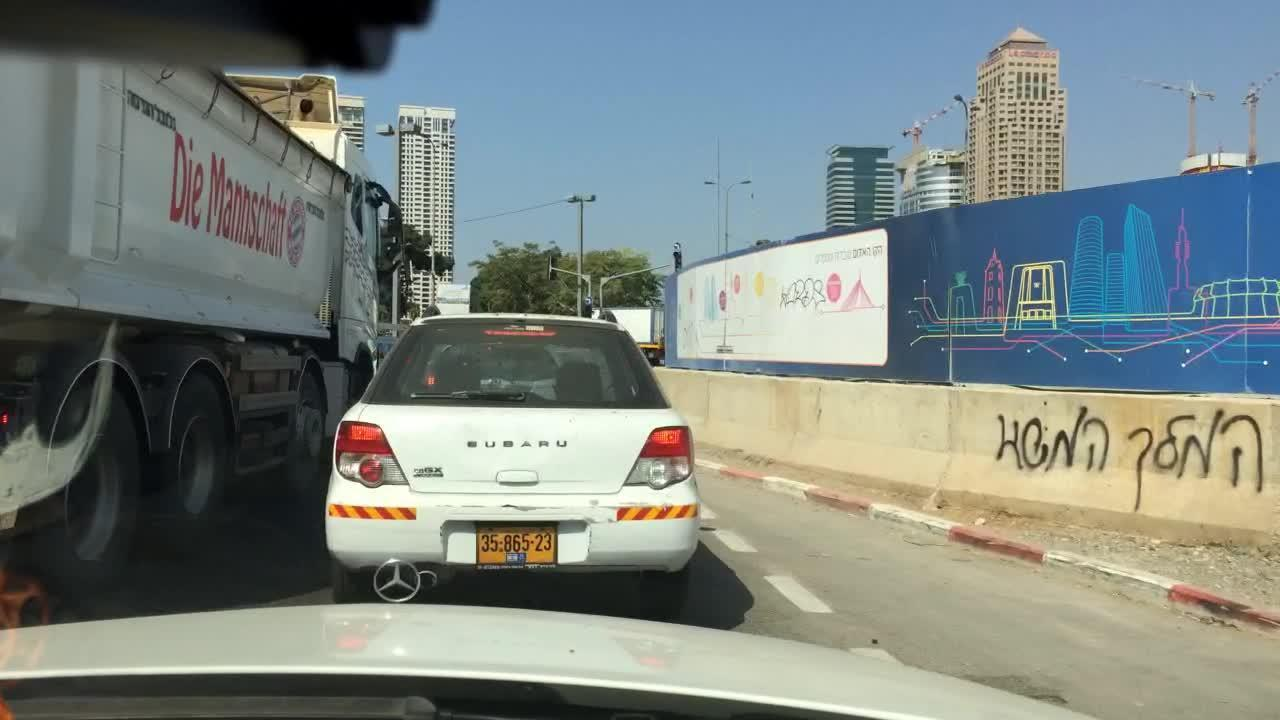Mercedes: (363, 547, 430, 607)
subaru: (456, 431, 573, 460)
